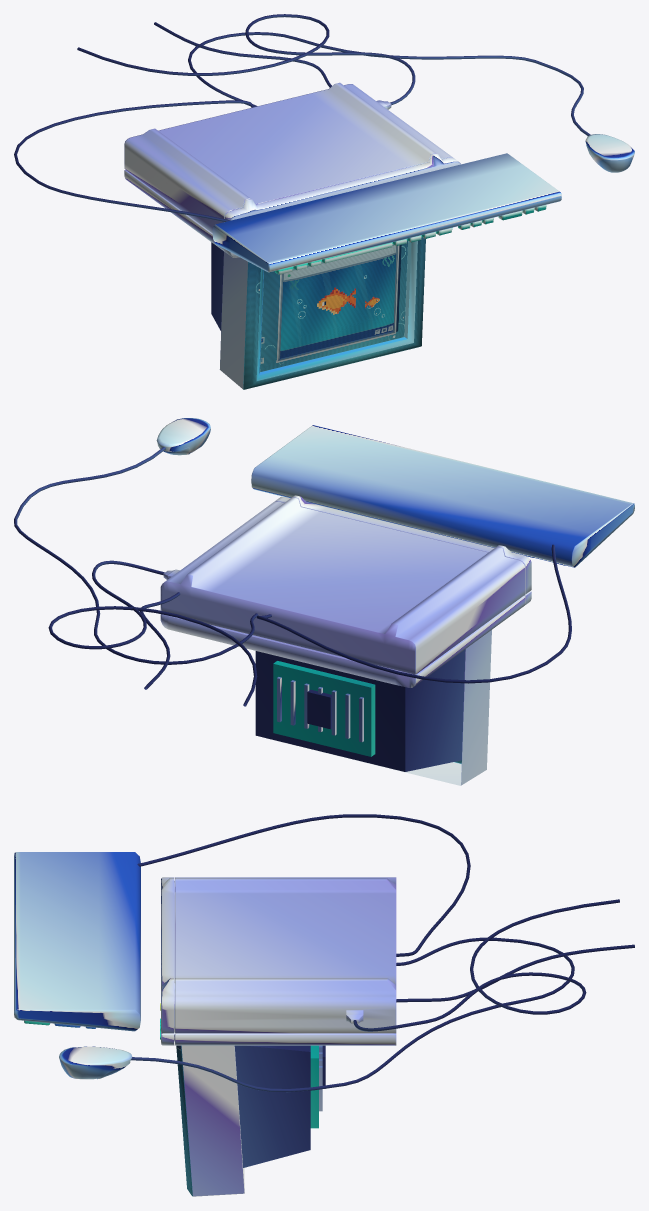
File: view-crt.obj
3 renders of one model, top to bottom at view 1: azimuth 30°, elevation 25°; view 2: azimuth 150°, elevation 25°; view 3: azimuth 270°, elevation 25°, orthographic. The views are drawn at different scales.
Bounding box in the file's own units: 200 × 74.11 × 190.
Materials: 1 (1 with a texture image).
